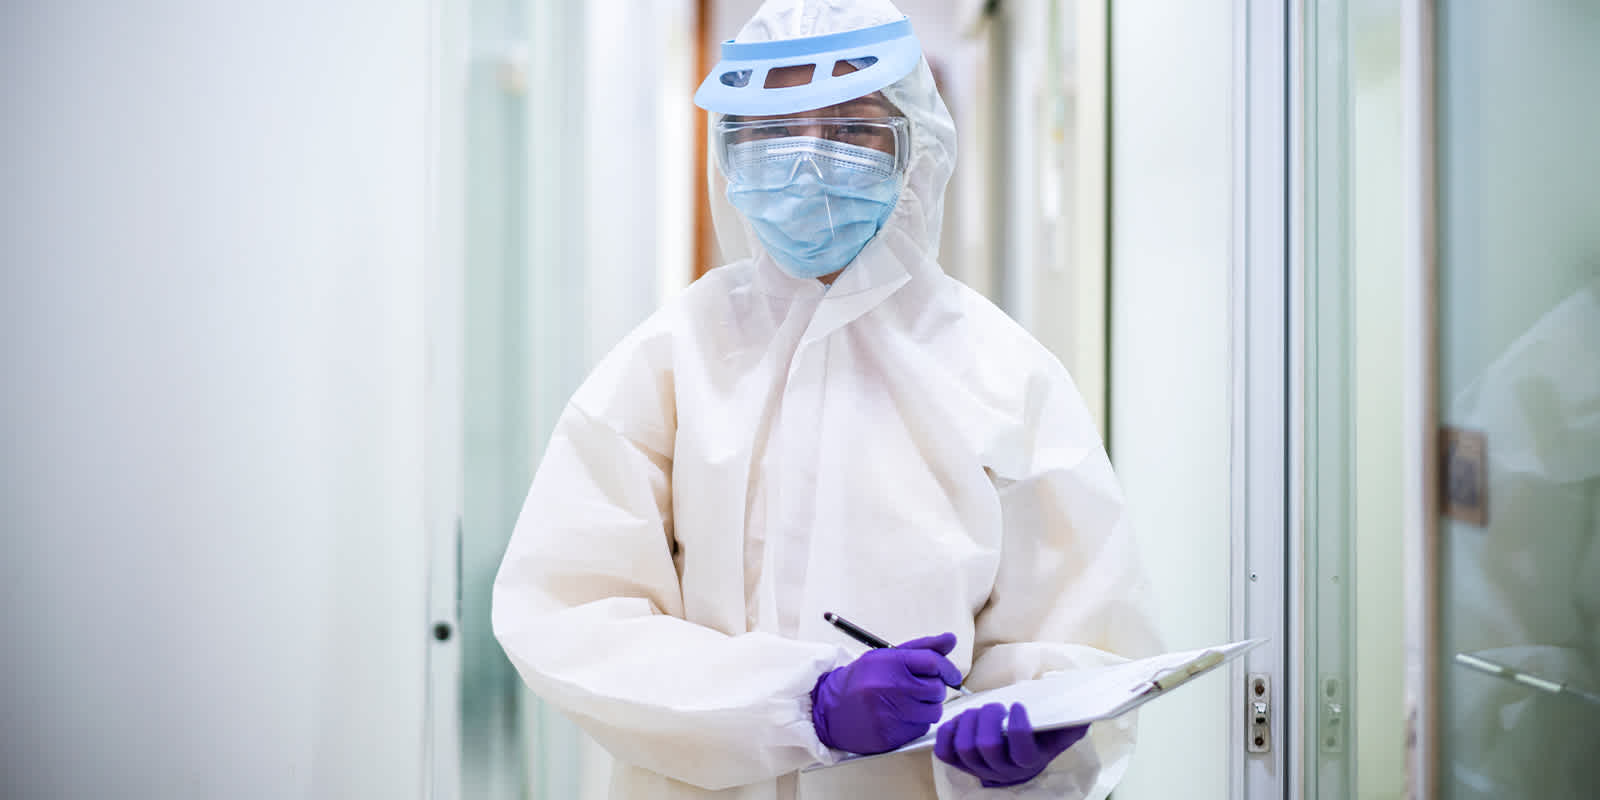Coverall: (565, 279, 1110, 800)
Gloves: (805, 627, 953, 761), (930, 684, 1062, 790)
Goggles: (718, 112, 913, 188)
with_mask: (719, 123, 910, 271)
